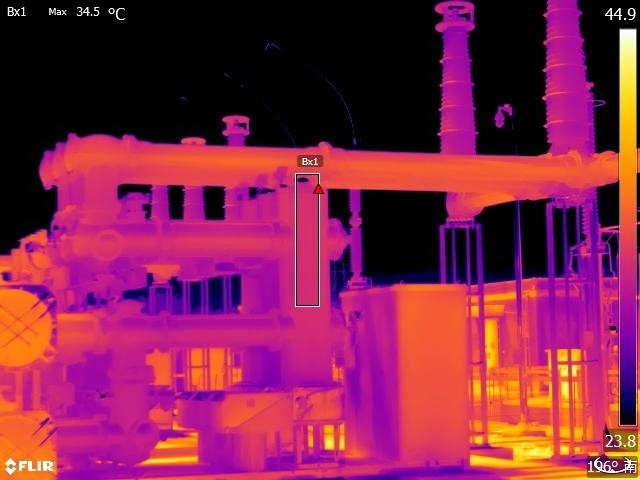potential transformer: (345, 147, 368, 284)
tube: (541, 1, 597, 153), (427, 1, 481, 158), (221, 111, 252, 231), (175, 134, 208, 222), (144, 182, 171, 219)
